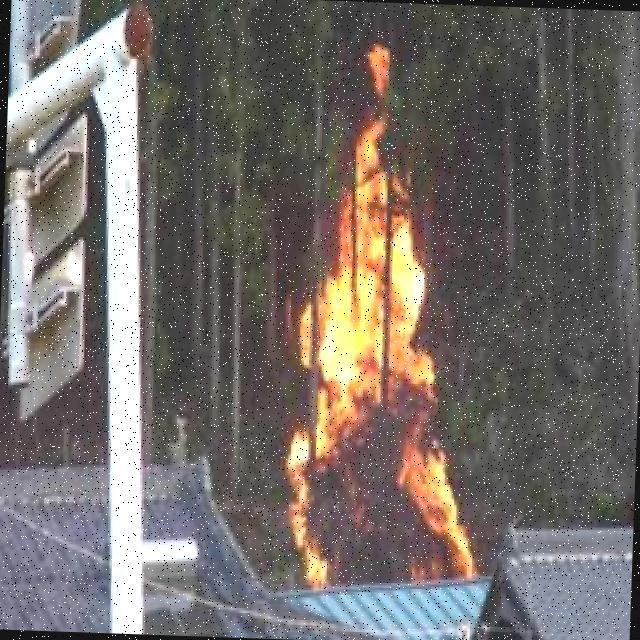Fire: (285, 134, 484, 589)
